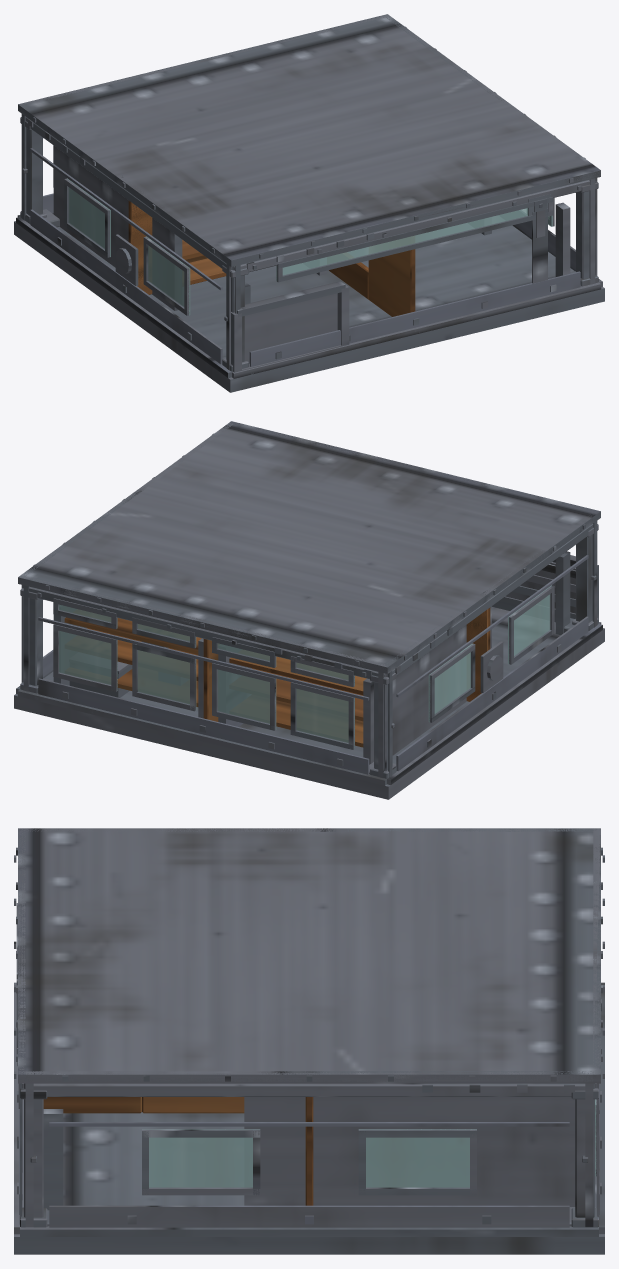
3 renders of one model, top to bottom at view 1: azimuth 30°, elevation 25°; view 2: azimuth 150°, elevation 25°; view 3: azimuth 270°, elevation 25°, orthographic. The views are drawn at different scales.
Visible parts, largest first — view 1: SM_HDBF_BoxFarm_Advanced_LOD0; view 2: SM_HDBF_BoxFarm_Advanced_LOD0; view 3: SM_HDBF_BoxFarm_Advanced_LOD0.
Part boxes in pixels (x1=…): SM_HDBF_BoxFarm_Advanced_LOD0: x1=14, y1=14, x2=604, y2=392; SM_HDBF_BoxFarm_Advanced_LOD0: x1=14, y1=421, x2=604, y2=799; SM_HDBF_BoxFarm_Advanced_LOD0: x1=14, y1=828, x2=604, y2=1254.
Size of the model in its own units: 3 by 1 by 3.
4 materials, 4 textured.
